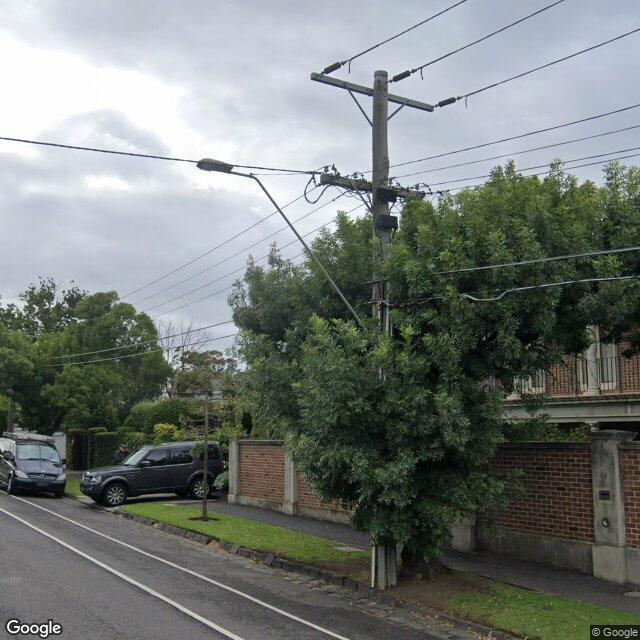HV-transmission: (312, 61, 464, 113)
crossarm: (304, 163, 432, 204), (311, 72, 435, 112)
streetlight: (196, 158, 376, 347)
timber-pole: (367, 70, 399, 589)
